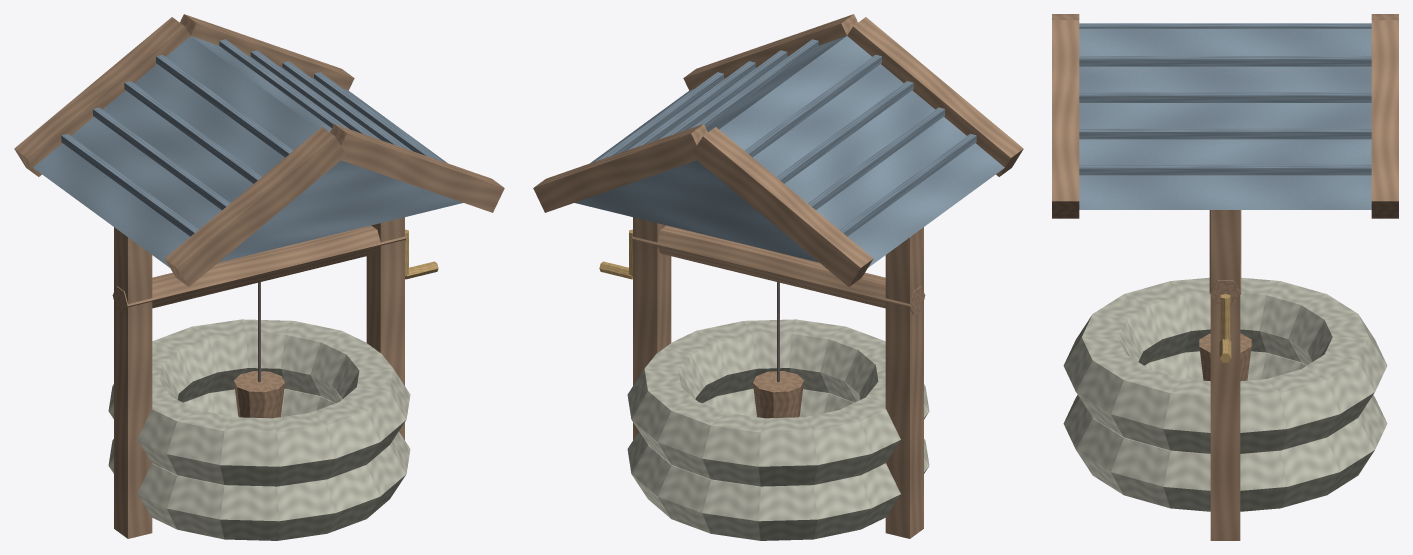
The model's file is lantern-watch-stone-winding-well__86.glb.
3 renders of one model, left to right at view 1: azimuth 30°, elevation 25°; view 2: azimuth 150°, elevation 25°; view 3: azimuth 270°, elevation 25°, orthographic. The views are drawn at different scales.
Visible parts, largest first — view 1: lantern-watch-courtyard-well; view 2: lantern-watch-courtyard-well; view 3: lantern-watch-courtyard-well.
Boxes of the visible parts, bbox=[...] form: lantern-watch-courtyard-well: bbox=[14, 14, 504, 540]; lantern-watch-courtyard-well: bbox=[533, 14, 1023, 540]; lantern-watch-courtyard-well: bbox=[1052, 14, 1398, 540].
Size of the model in its own units: 1.83 by 2.19 by 1.52.
Materials: 6 (5 with a texture image).
